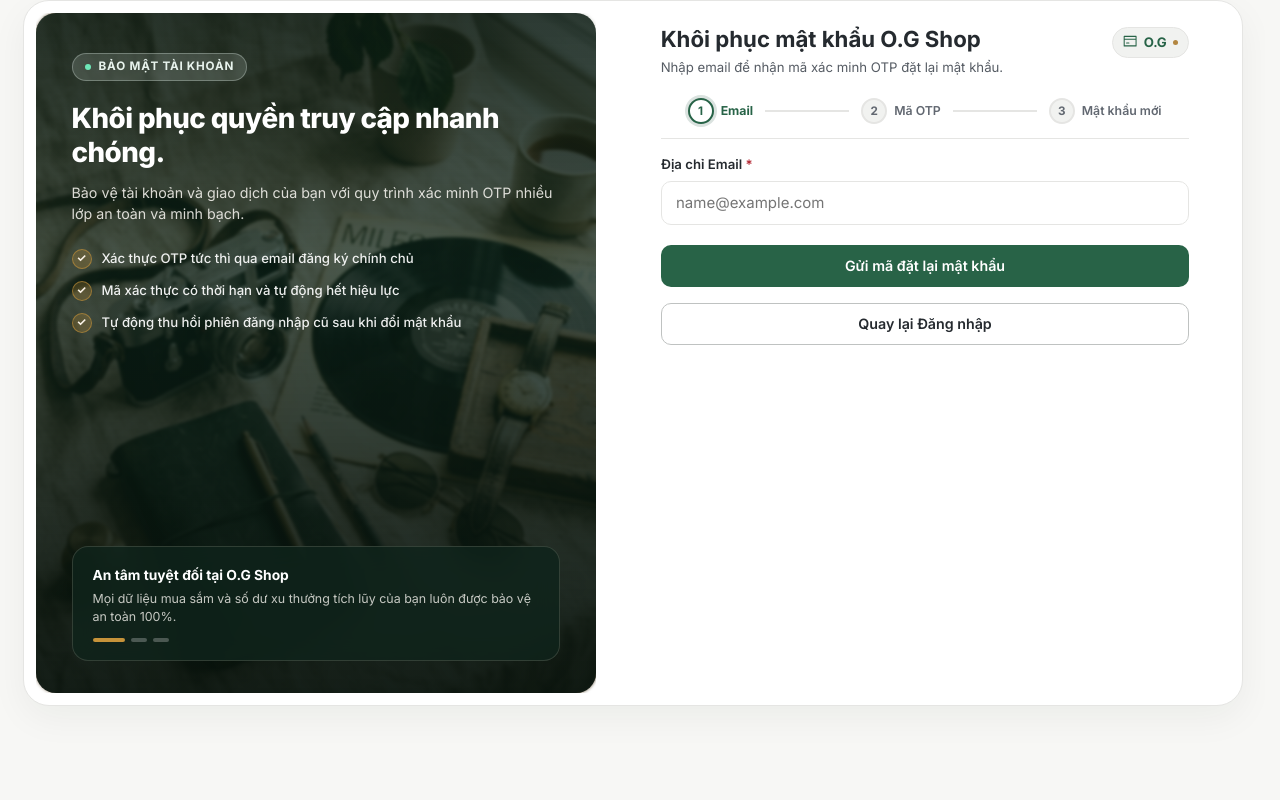
Test: ForgotPasswordPage Split-Screen › updates page title and active stepper node when moving to OTP step
This screenshot has width=1280, height=800.
Type "user@example.com" into the field labelled "Địa chỉ Email *" at (925, 203), box [661,181,1189,226]
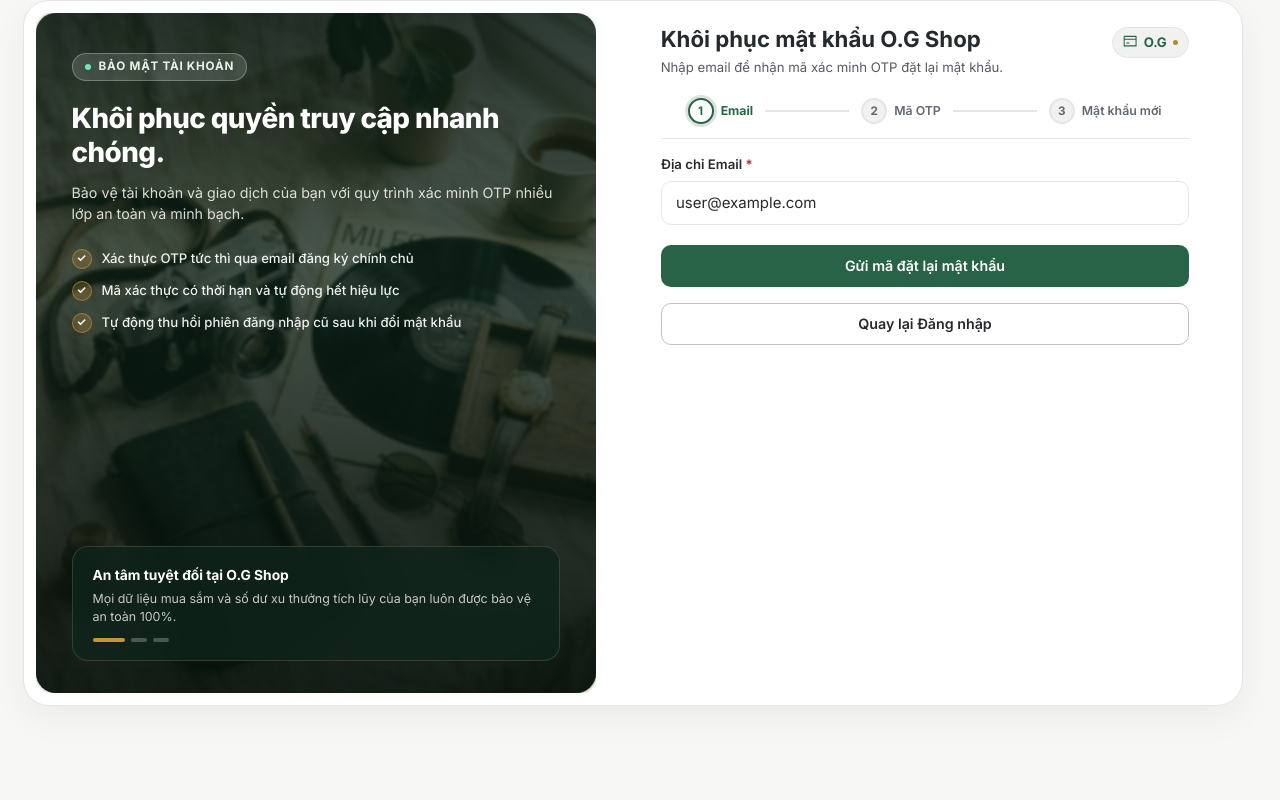
Click the button "Gửi mã đặt lại mật khẩu" at (925, 267), box [661,246,1189,288]
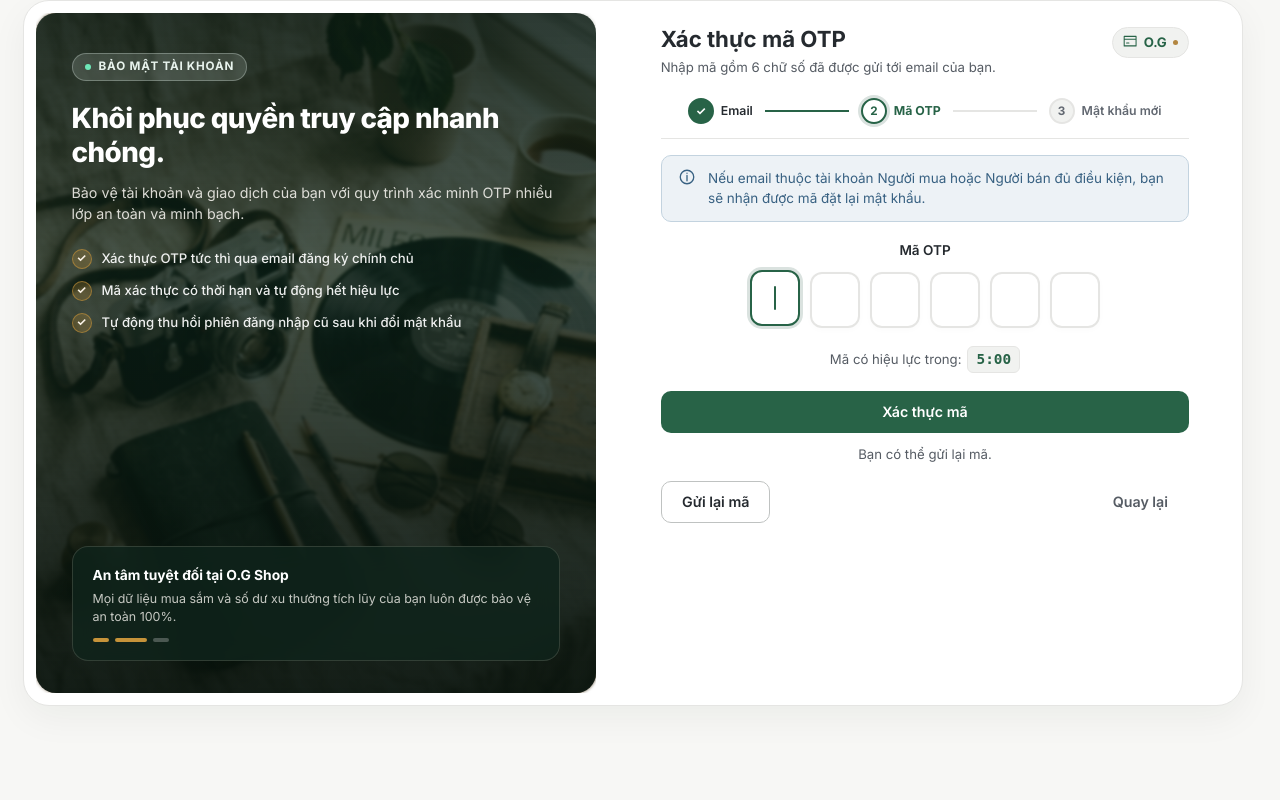
Expected: the heading "Xác thực mã OTP" is shown, [661,25,846,52]
Expected: the text "Nhập mã gồm 6 chữ số đã được gửi tới email của bạn." is shown, [661,59,996,75]
Expected: the label labelled "Mã OTP" is shown, [899,242,950,258]
